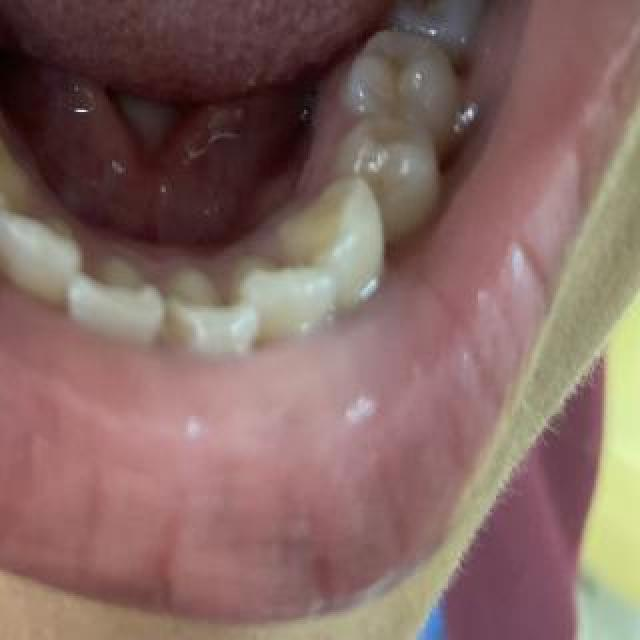maligned: (338, 0, 470, 138), (60, 249, 168, 365), (151, 270, 259, 374), (0, 0, 4, 40)
